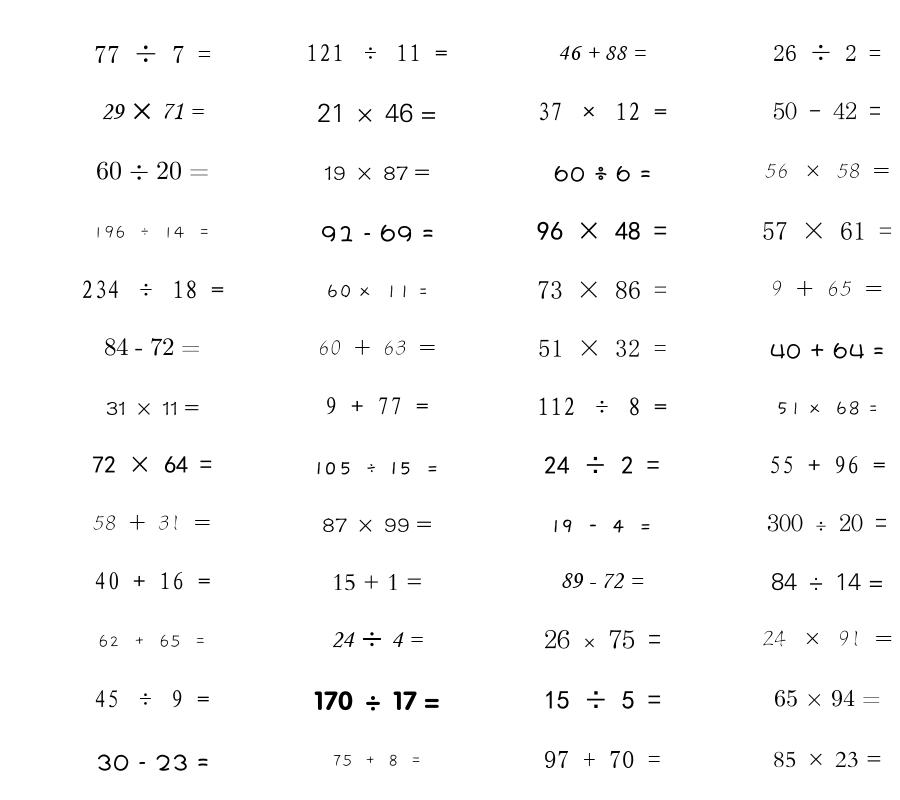MQ: (81, 280, 224, 299), (306, 44, 448, 62), (314, 691, 440, 711), (537, 102, 667, 121), (537, 221, 667, 240), (762, 221, 892, 240), (537, 397, 667, 416), (317, 103, 437, 123), (537, 281, 667, 299), (544, 629, 661, 649), (538, 339, 667, 357), (762, 630, 893, 647), (544, 690, 661, 709), (767, 514, 887, 532), (96, 161, 209, 180), (94, 45, 211, 63), (769, 456, 886, 474), (94, 572, 211, 590), (544, 456, 660, 474), (94, 690, 210, 708), (92, 456, 212, 473), (321, 224, 434, 242), (771, 573, 884, 591), (544, 751, 661, 768), (773, 102, 881, 120), (770, 342, 884, 359), (774, 689, 881, 707), (96, 754, 209, 771), (93, 515, 211, 531), (765, 163, 890, 178), (325, 397, 429, 415), (773, 751, 882, 768), (773, 44, 881, 61), (771, 280, 883, 296), (318, 340, 436, 355), (101, 103, 204, 120), (104, 338, 200, 356), (93, 225, 211, 239), (554, 165, 651, 182), (315, 462, 439, 475), (331, 631, 423, 648), (332, 574, 423, 591), (322, 518, 432, 532), (326, 284, 428, 299), (776, 401, 878, 416), (98, 634, 207, 648), (324, 166, 430, 180), (552, 519, 652, 533), (560, 573, 644, 589), (558, 45, 646, 60), (106, 401, 199, 415), (332, 754, 422, 767)
